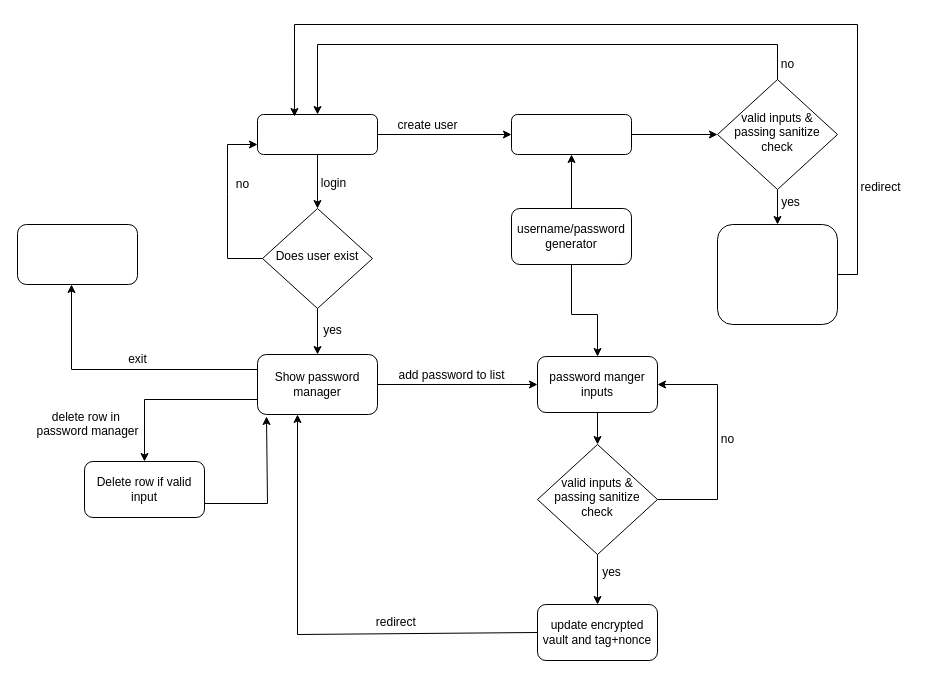
The diagram is 928 pixels wide and 678 high, and some of its shapes have lost their labels. The centre of each missing label's shape, as x and y in pixels:
create users unique salt. Initialize users encrypted vault: [777,274]
exit/logout: [77,254]
input username and pasword: [571,134]
login create user: [317,134]
